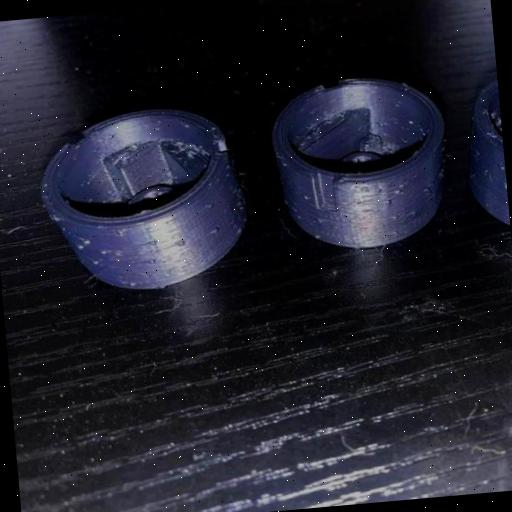blobs: (210, 222, 223, 236), (174, 238, 188, 250), (408, 208, 422, 218), (74, 243, 88, 252), (81, 237, 93, 246), (392, 187, 402, 197), (424, 184, 434, 194), (390, 212, 400, 222), (207, 201, 216, 211), (149, 237, 159, 246), (384, 198, 394, 207), (150, 257, 158, 267)
